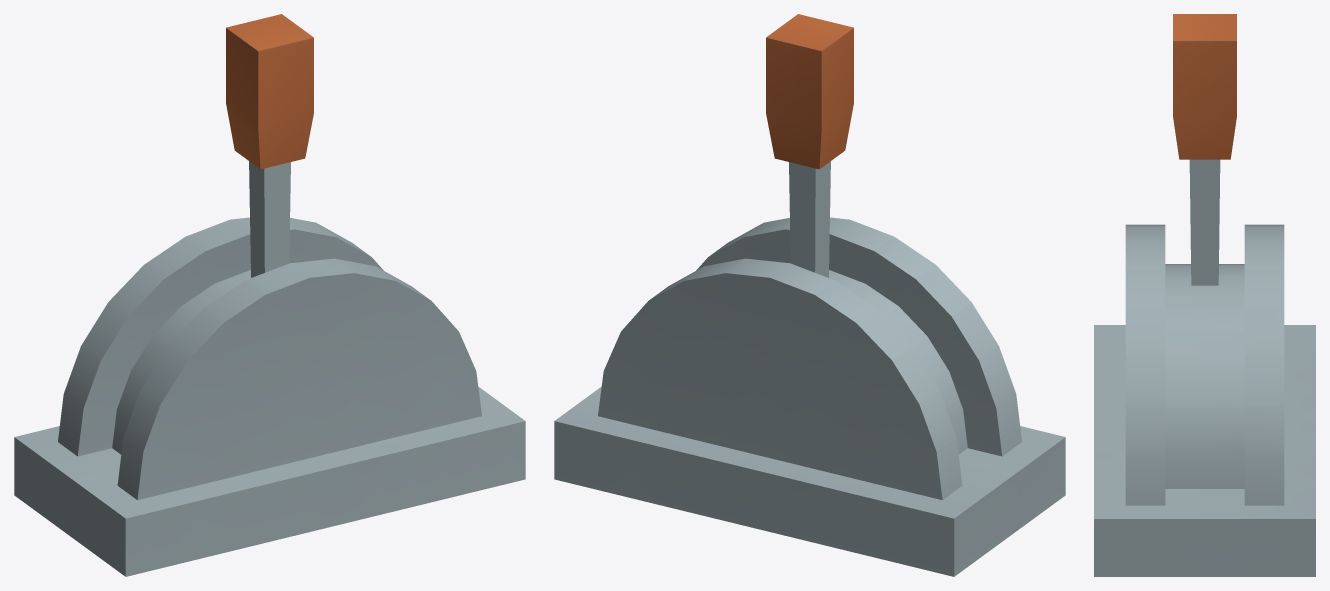
The model's file is lever.glb.
The picture shows the model from 3 angles, left to right: view 1: azimuth 30°, elevation 25°; view 2: azimuth 150°, elevation 25°; view 3: azimuth 270°, elevation 25°; orthographic projection.
Visible parts, largest first — view 1: lever, handle; view 2: lever, handle; view 3: lever, handle.
Boxes of the visible parts, box(x1,y1,x2,y2) form: lever: box(14, 217, 525, 576); handle: box(226, 14, 313, 277); lever: box(554, 217, 1065, 576); handle: box(766, 14, 853, 277); lever: box(1094, 224, 1315, 576); handle: box(1173, 14, 1236, 285).
Bounding box in the file's own units: 0.58 × 0.6303 × 0.28.
Materials: 1 (1 with a texture image).
